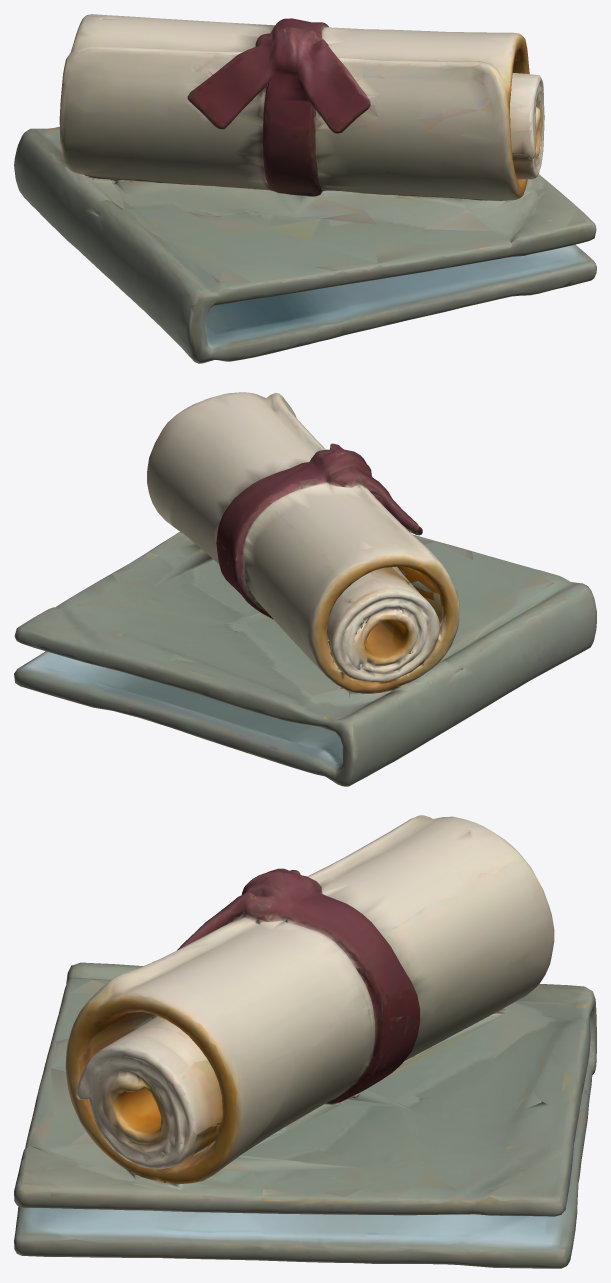
File: sc-diploma-tube.glb
3 renders of one model, top to bottom at view 1: azimuth 30°, elevation 25°; view 2: azimuth 150°, elevation 25°; view 3: azimuth 270°, elevation 25°, orthographic. The views are drawn at different scales.
Visible parts, largest first — view 1: geometry_0; view 2: geometry_0; view 3: geometry_0.
Part boxes in pixels (x1,y1,x2,y2): geometry_0: [14, 14, 596, 363]; geometry_0: [14, 392, 596, 786]; geometry_0: [14, 815, 596, 1268].
Size of the model in its own units: 1 by 0.5326 by 1.
Materials: 1 (1 with a texture image).
